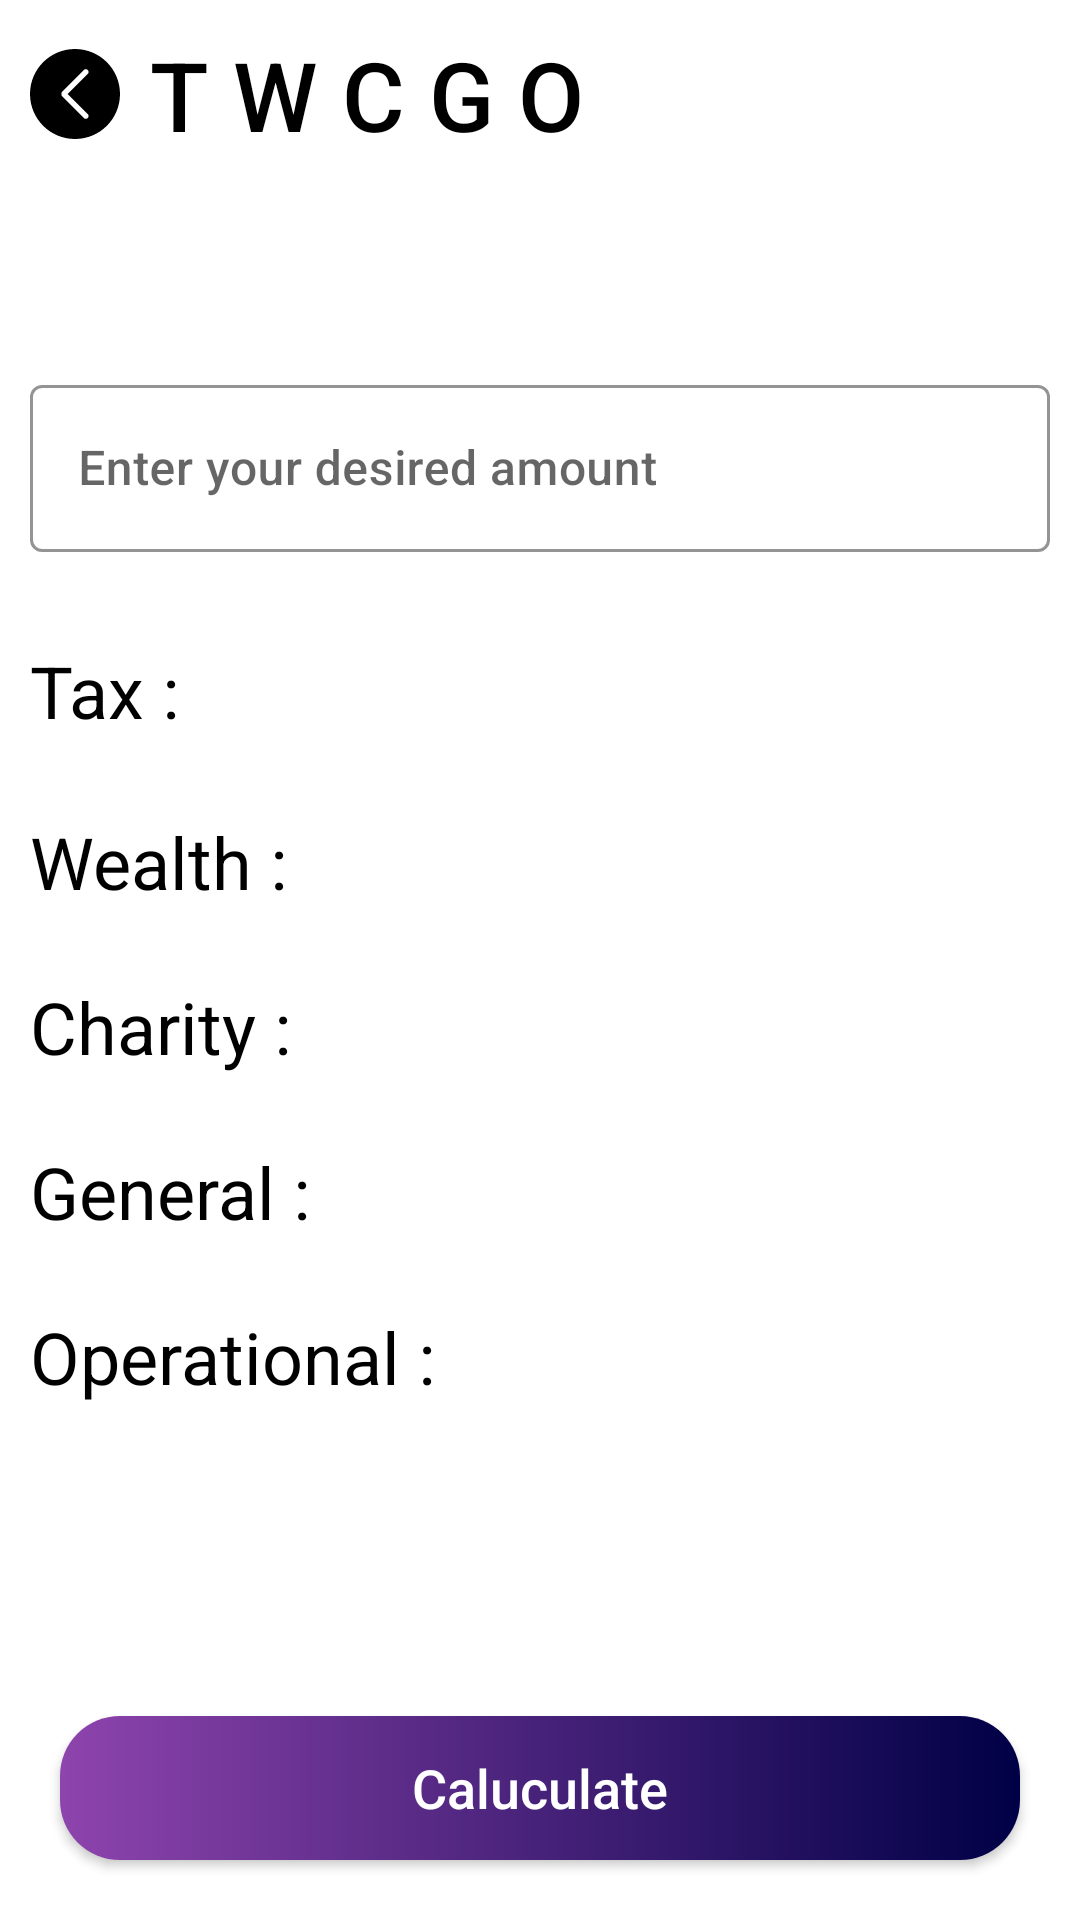

Screen size 1080x1920. Icon name, then its center in pixels as (x=x, y=y):
back: (x=75, y=94)
